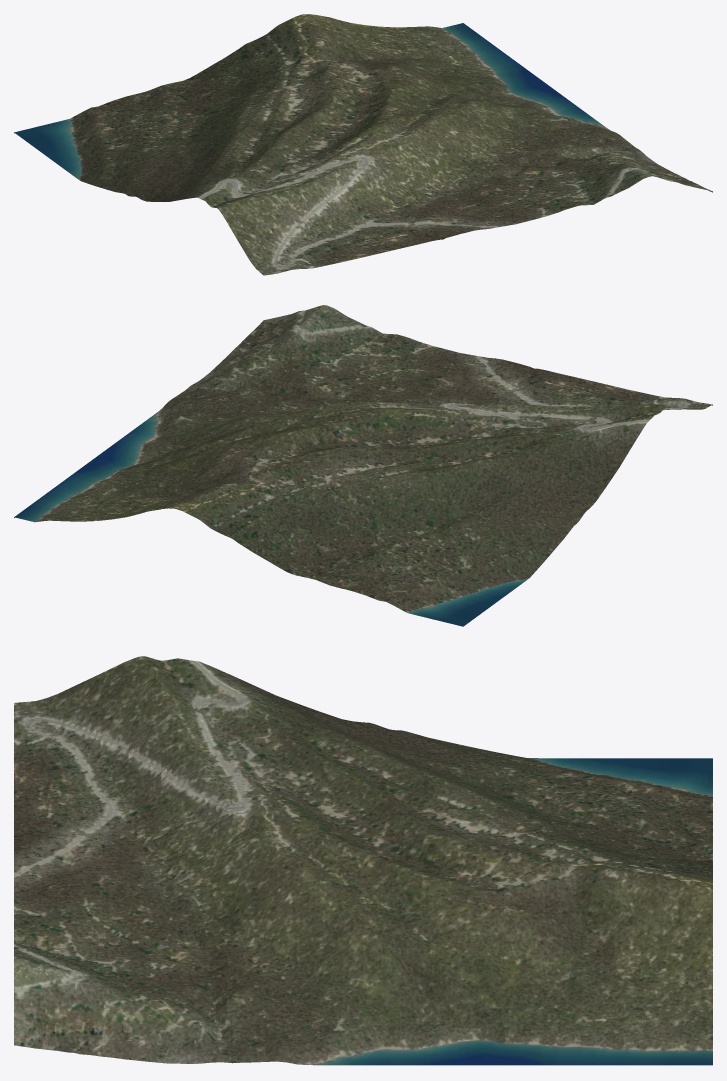
3 renders of one model, top to bottom at view 1: azimuth 30°, elevation 25°; view 2: azimuth 150°, elevation 25°; view 3: azimuth 270°, elevation 25°, orthographic. The views are drawn at different scales.
Size of the model in its own units: 1000 by 158 by 963.
1 material, 1 textured.
